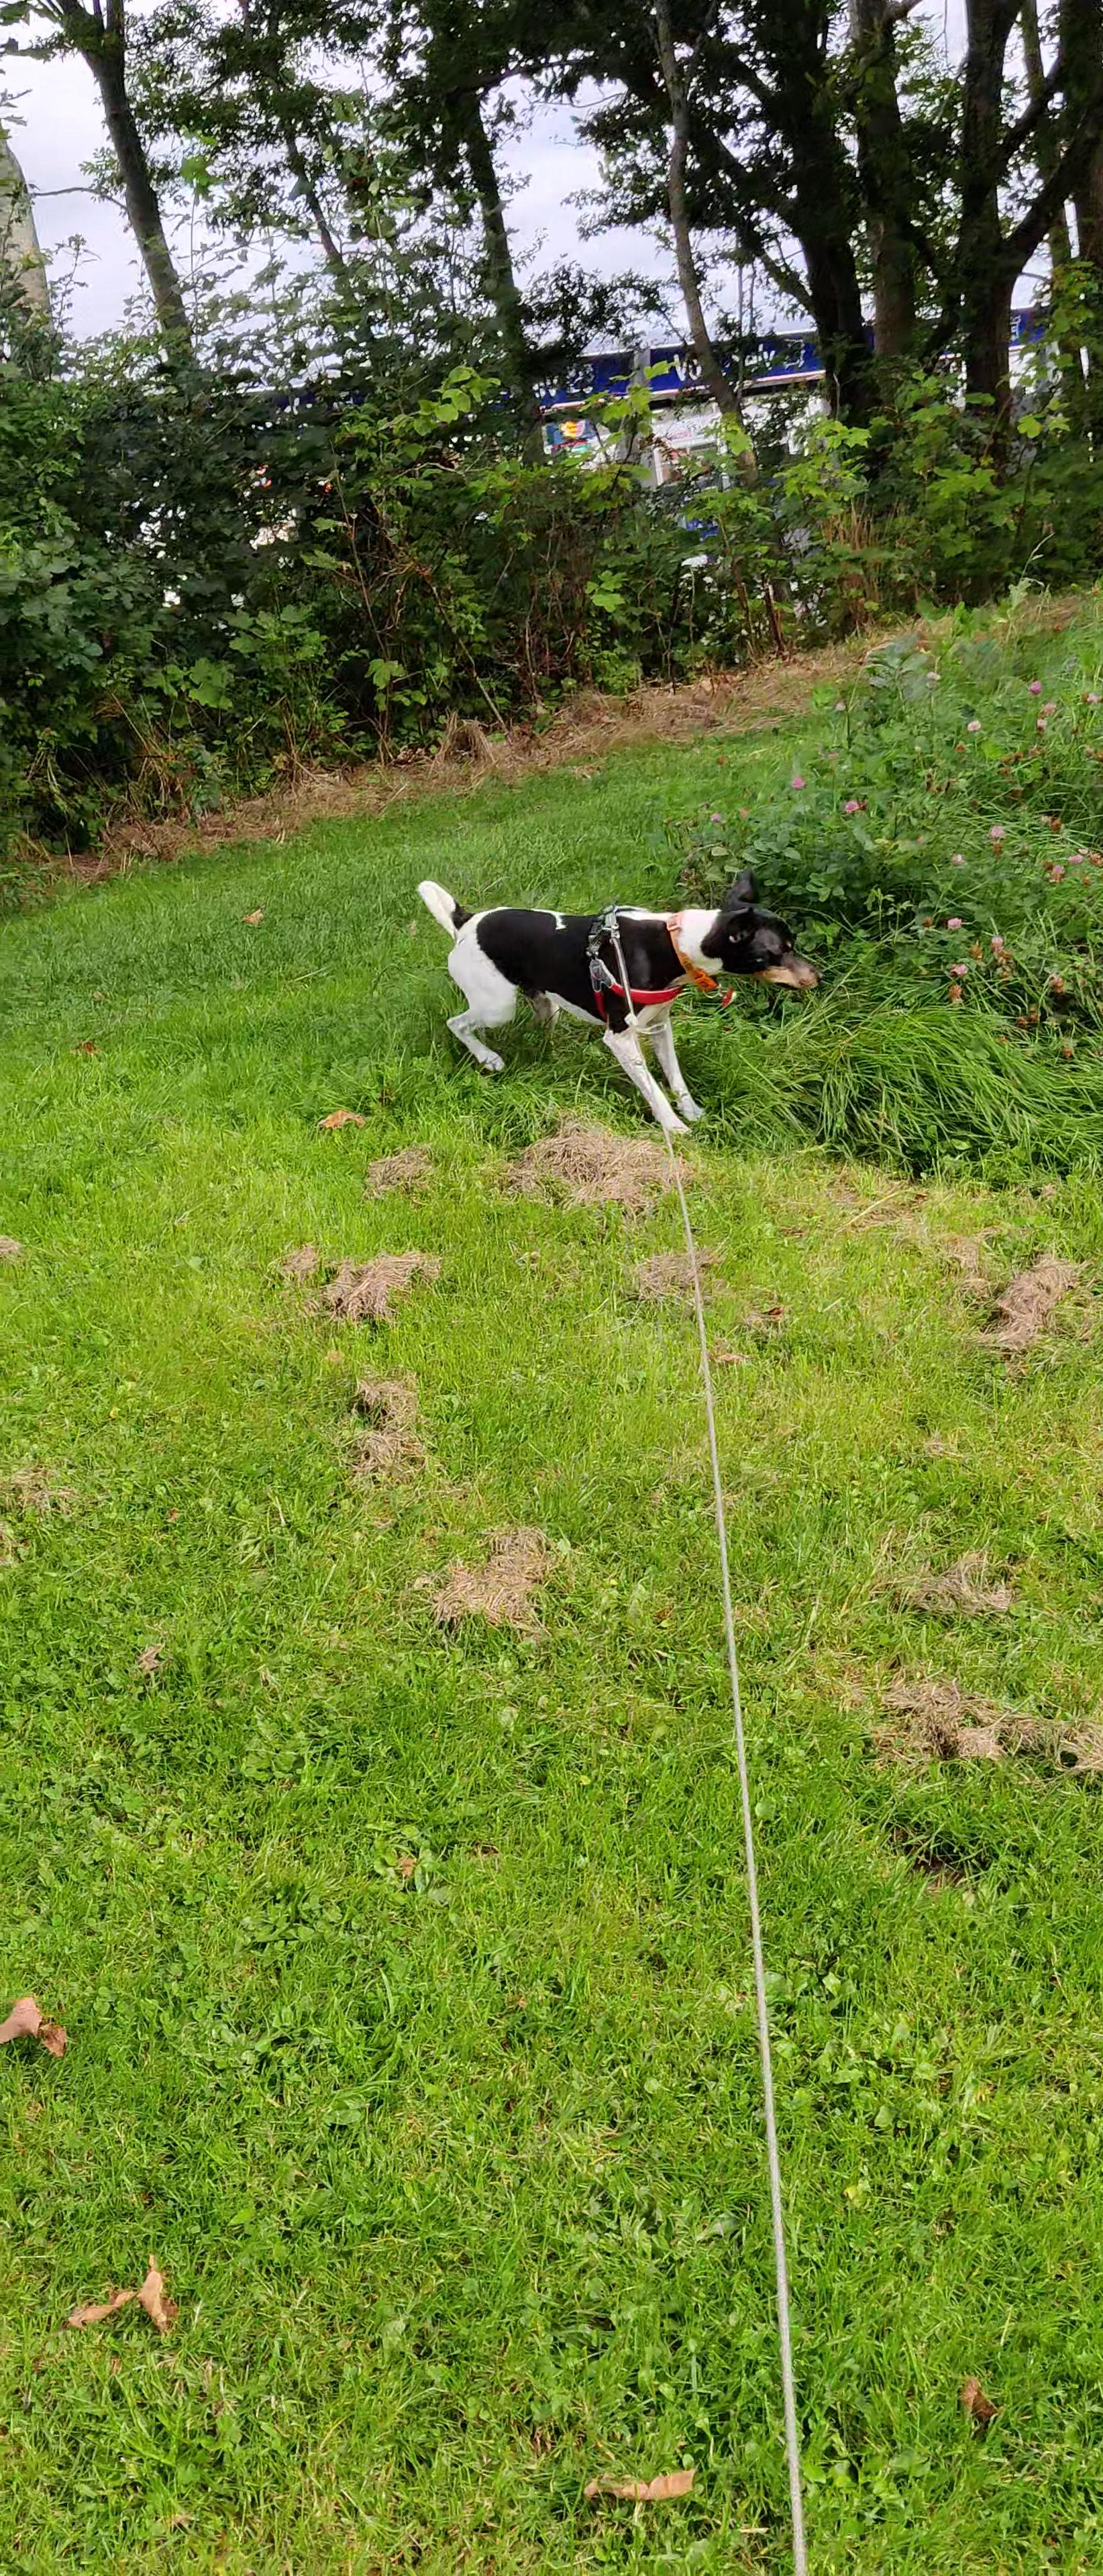Dog: (401, 854, 832, 1135)
